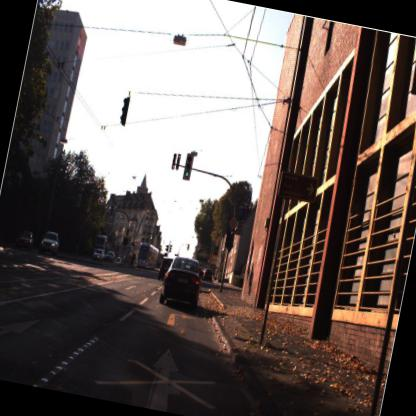other: (223, 214, 240, 232)
